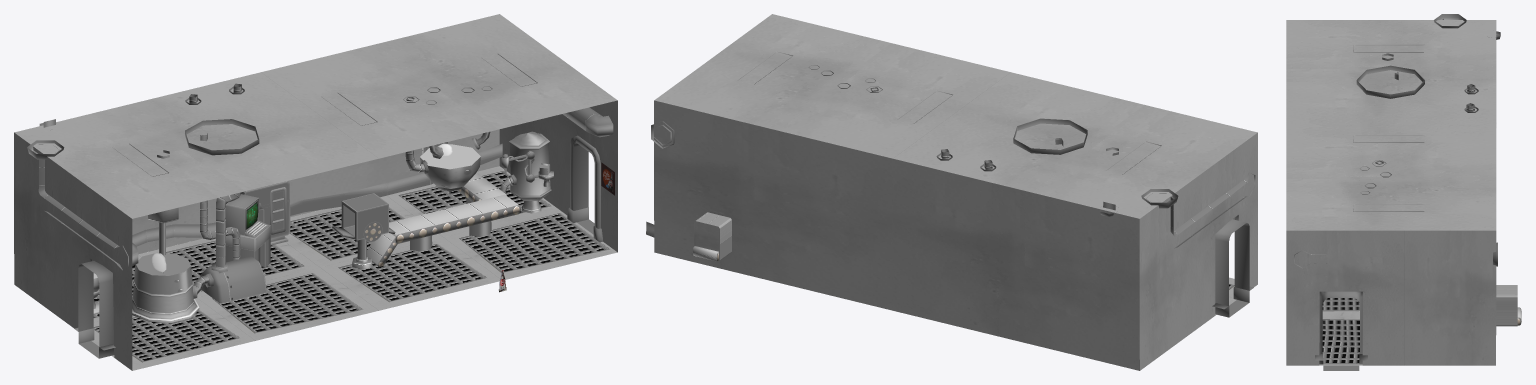
The model's file is MSH_Nuka_room_L2_R2_optimized.fbx.
3 views of the same model, side by side, from view 1: azimuth 30°, elevation 25°; view 2: azimuth 150°, elevation 25°; view 3: azimuth 270°, elevation 25° (orthographic). The views are drawn at different scales.
Parts seen in each view (by area): view 1: lightmap1, lightmap-1; view 2: lightmap1, lightmap-1; view 3: lightmap1, lightmap-1.
Part boxes in pixels (bbox=[...]): lightmap1: bbox=[14, 14, 617, 370]; lightmap-1: bbox=[78, 143, 594, 358]; lightmap1: bbox=[646, 14, 1257, 370]; lightmap-1: bbox=[1215, 219, 1249, 317]; lightmap1: bbox=[1286, 14, 1521, 365]; lightmap-1: bbox=[1322, 291, 1359, 370].
Bounding box in the file's own units: 20.61 × 6.58 × 9.26.
Materials: 8 (8 with a texture image).
